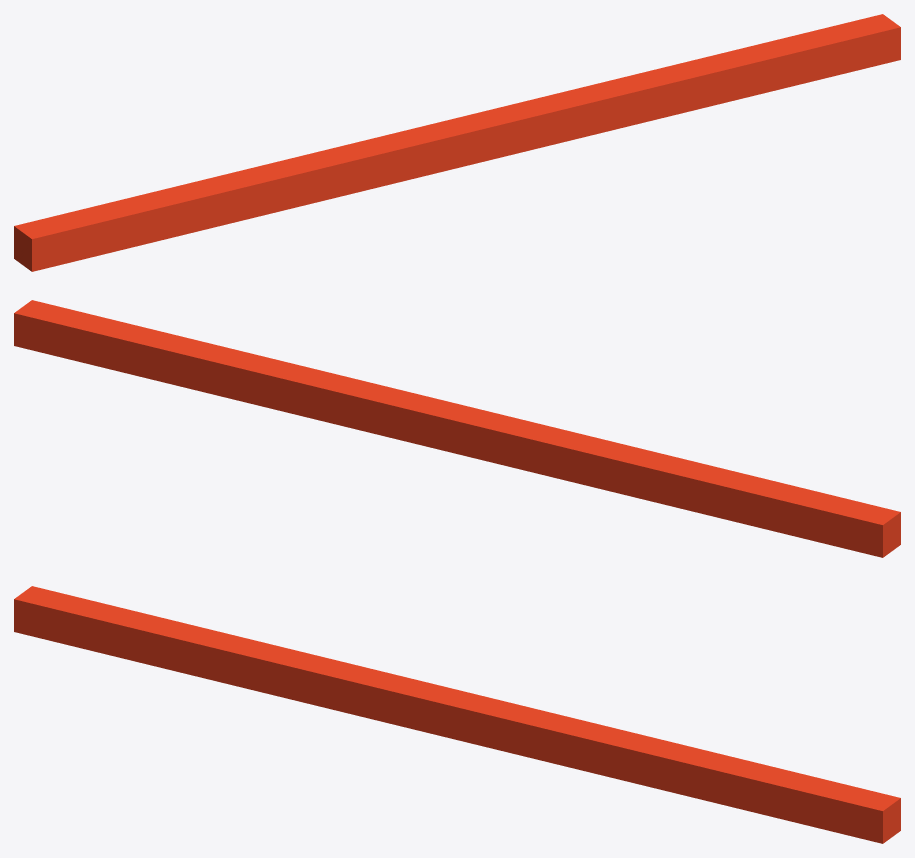
The model's file is SM_Roof_Beam_Wood_5m.fbx.
3 views of the same model, one above another, from view 1: azimuth 30°, elevation 25°; view 2: azimuth 150°, elevation 25°; view 3: azimuth 330°, elevation 25° (orthographic).
Visible parts, largest first — view 1: roof-beam-wood-5m; view 2: roof-beam-wood-5m; view 3: roof-beam-wood-5m.
Part boxes in pixels (<box>): roof-beam-wood-5m: <box>14,14,900,271</box>; roof-beam-wood-5m: <box>14,300,900,557</box>; roof-beam-wood-5m: <box>14,586,900,843</box>.
Size of the model in its own units: 5 by 0.18 by 0.18.
